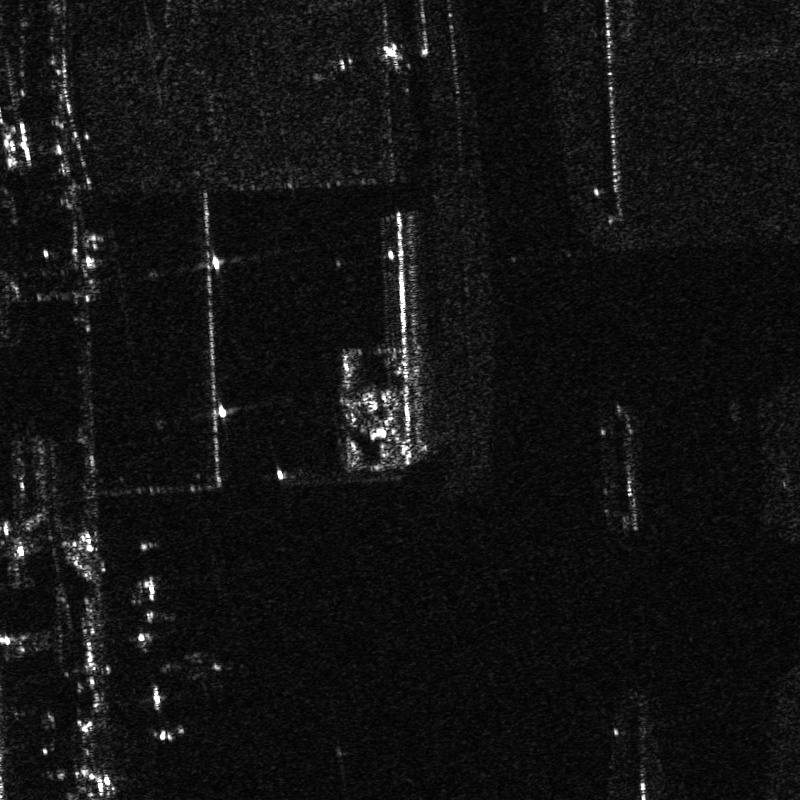Boeing737: (156, 647, 230, 689)
